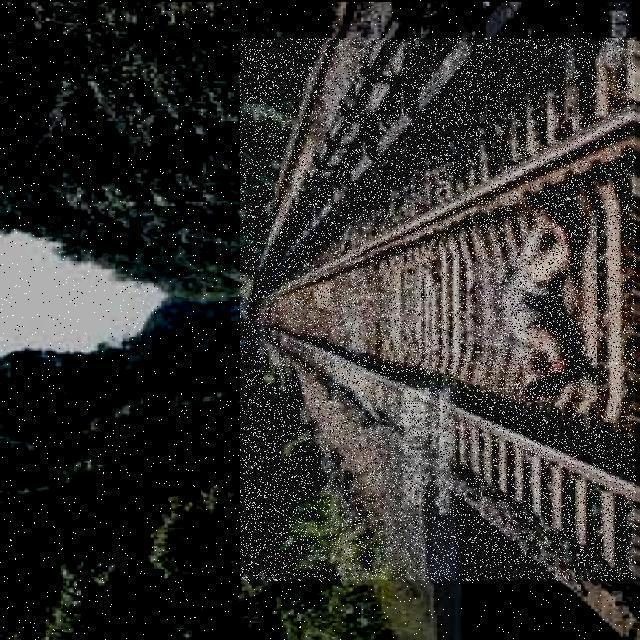rail: (242, 40, 636, 581)
